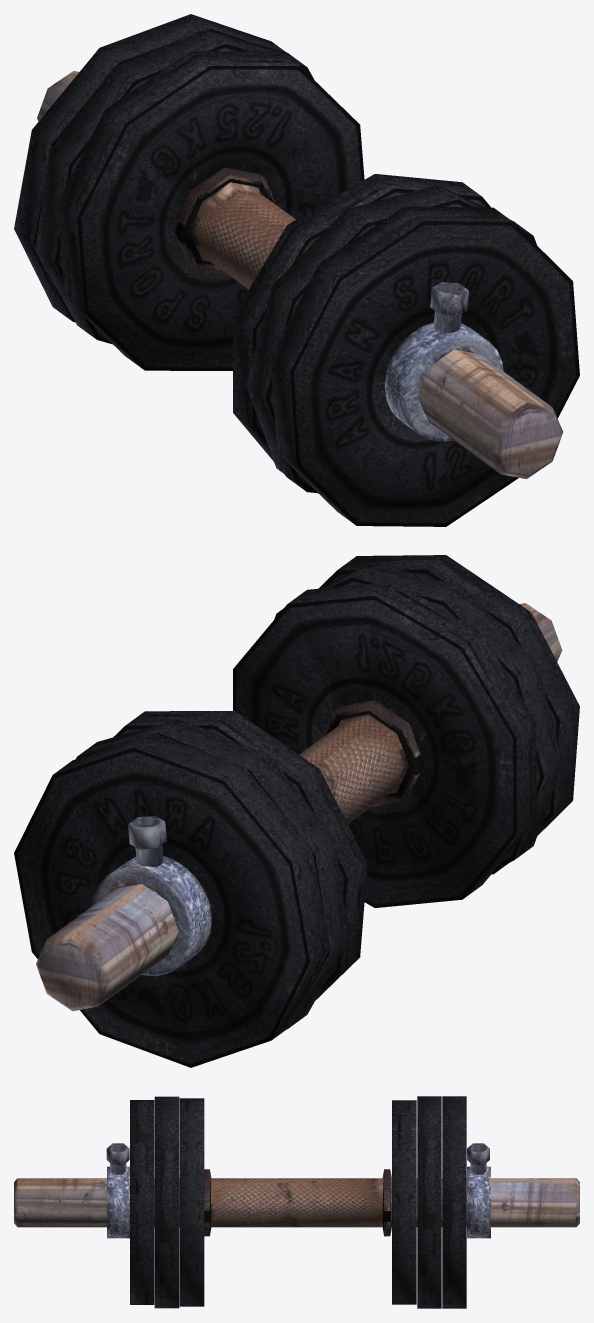
Rendered from dumbell.glb.
3 renders of one model, top to bottom at view 1: azimuth 30°, elevation 25°; view 2: azimuth 150°, elevation 25°; view 3: azimuth 270°, elevation 25°, orthographic. The views are drawn at different scales.
Visible parts, largest first — view 1: weight2, weight3, rod, weight4, weight5, weight6, weight1, clamp, screw; view 2: weight5, weight6, rod, weight4, weight1, weight3, weight2, clamp2, screw2; view 3: rod, weight1, weight6, weight4, weight5, weight2, weight3, clamp2, clamp, screw, screw2.
Part boxes in pixels (x1,y1,x2,y2): weight2: [270, 206, 579, 526]; weight3: [57, 51, 364, 370]; rod: [37, 71, 563, 479]; weight4: [35, 29, 314, 344]; weight5: [14, 14, 285, 322]; weight6: [233, 174, 490, 492]; weight1: [246, 185, 536, 493]; clamp: [384, 321, 503, 441]; screw: [430, 282, 468, 333]; weight5: [14, 733, 329, 1067]; weight6: [233, 581, 536, 907]; rod: [36, 603, 562, 1011]; weight4: [76, 718, 349, 1029]; weight1: [274, 563, 563, 869]; weight3: [113, 711, 367, 1000]; weight2: [319, 555, 579, 874]; clamp2: [92, 856, 211, 976]; screw2: [128, 816, 166, 867]; rod: [14, 1169, 579, 1236]; weight1: [154, 1096, 179, 1308]; weight6: [179, 1098, 204, 1306]; weight4: [417, 1096, 441, 1308]; weight5: [442, 1096, 466, 1308]; weight2: [130, 1100, 154, 1304]; weight3: [392, 1100, 416, 1304]; clamp2: [467, 1166, 490, 1238]; clamp: [107, 1166, 129, 1238]; screw: [106, 1143, 129, 1174]; screw2: [467, 1143, 489, 1174].
Bounding box in the file's own units: 0.1389 × 0.1389 × 0.37.
4 materials, 4 textured.
